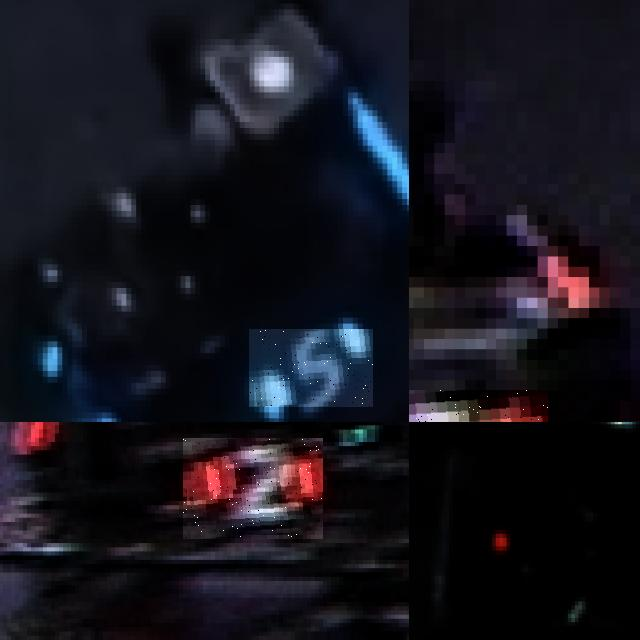B5: (249, 329, 373, 407)
R2: (183, 438, 323, 539)
